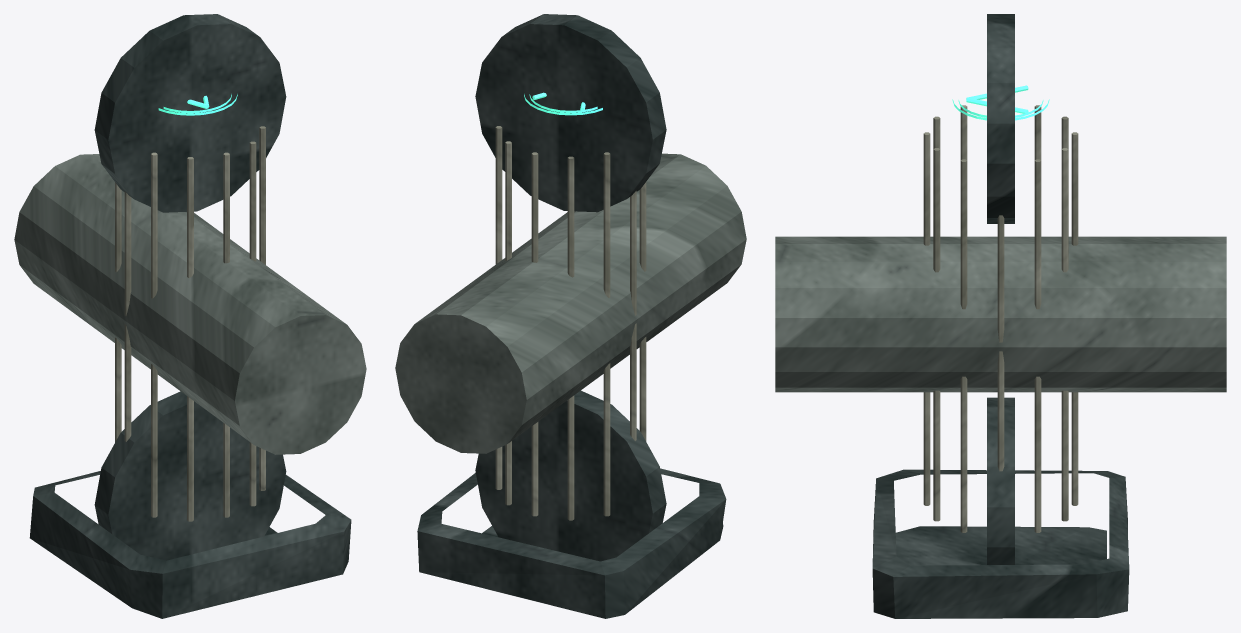
Rendered from 0276_fluted_column_01.glb.
3 renders of one model, left to right at view 1: azimuth 30°, elevation 25°; view 2: azimuth 150°, elevation 25°; view 3: azimuth 270°, elevation 25°, orthographic. The views are drawn at different scales.
Parts seen in each view (by area): view 1: stone_dark, stone, stone_light, glow; view 2: stone_dark, stone, stone_light, glow; view 3: stone, stone_dark, stone_light, glow.
Boxes of the visible parts, x1,y1,x2,y2 form: stone_dark: (29, 14, 351, 618); stone: (14, 154, 366, 454); stone_light: (115, 126, 265, 521); glow: (158, 94, 237, 115); stone_dark: (417, 14, 726, 618); stone: (395, 153, 746, 453); stone_light: (495, 126, 646, 520); glow: (524, 92, 602, 115); stone: (775, 236, 1226, 392); stone_dark: (872, 14, 1129, 618); stone_light: (923, 105, 1078, 532); glow: (952, 85, 1049, 120).
Size of the model in its own units: 1.28 by 3.16 by 2.25.
4 materials, 4 textured.
